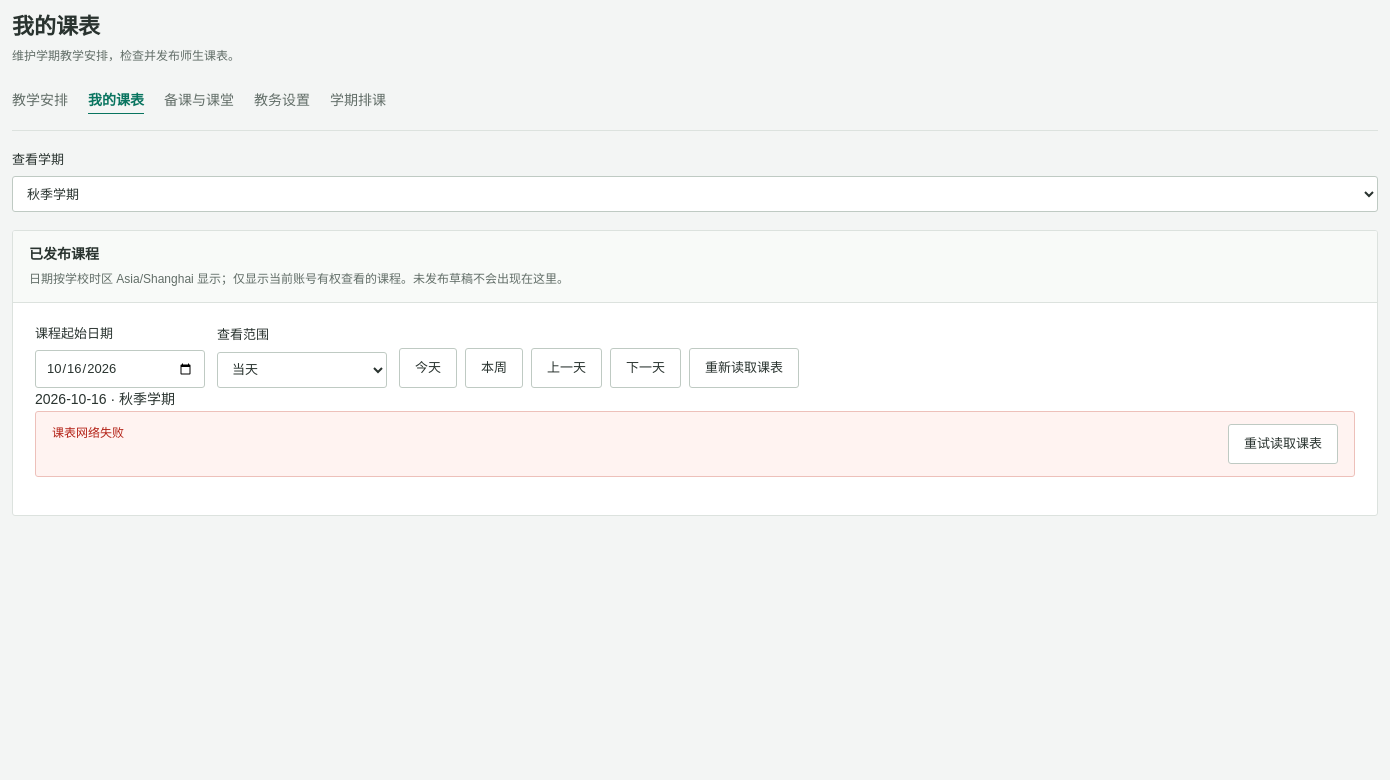
Test case: recovers a failed schedule read and labels the published version separately
Click the button "重试读取课表".
click(1283, 444)  # box [1228,424,1338,464]
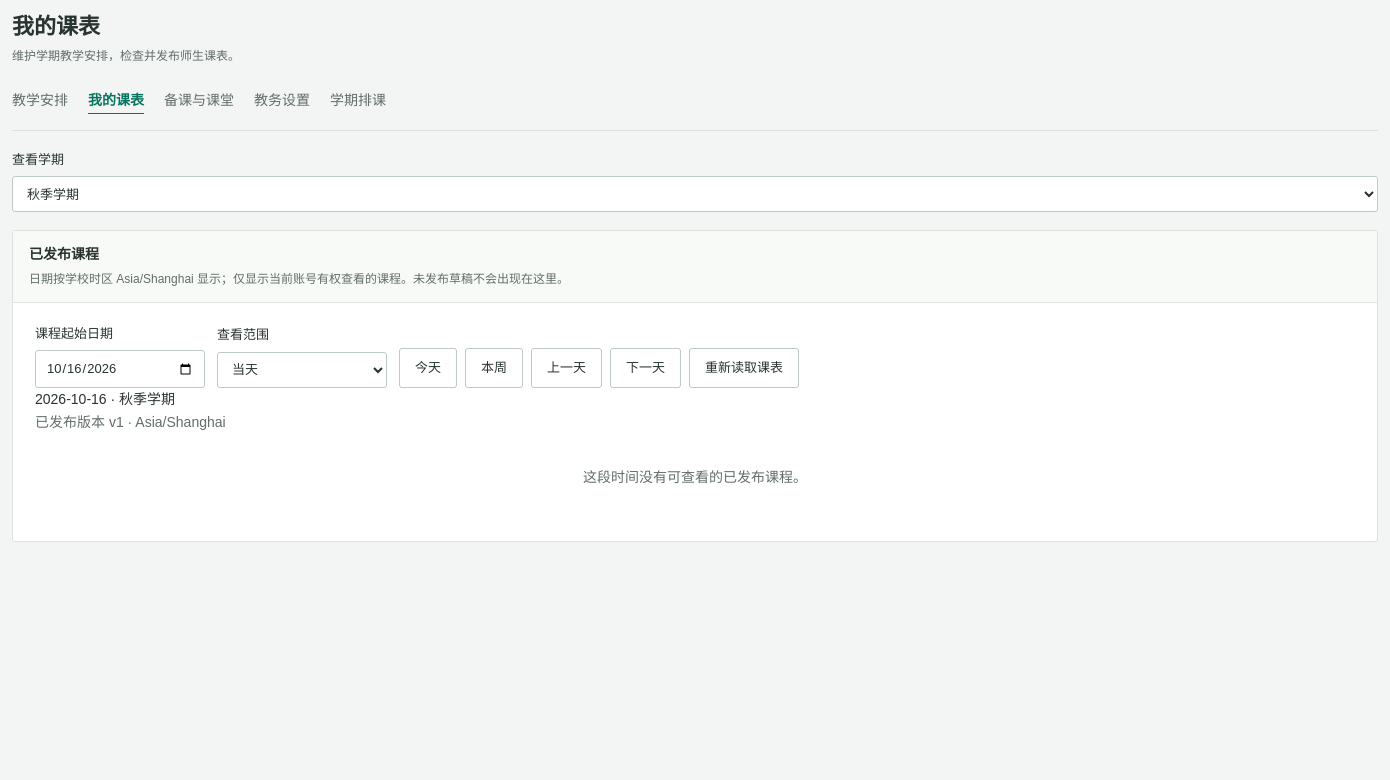
Expected: the text "已发布版本 v1" is shown, [35,414,226,430]
Expected: the text "没有可查看的已发布课程" is shown, [583,469,807,485]
